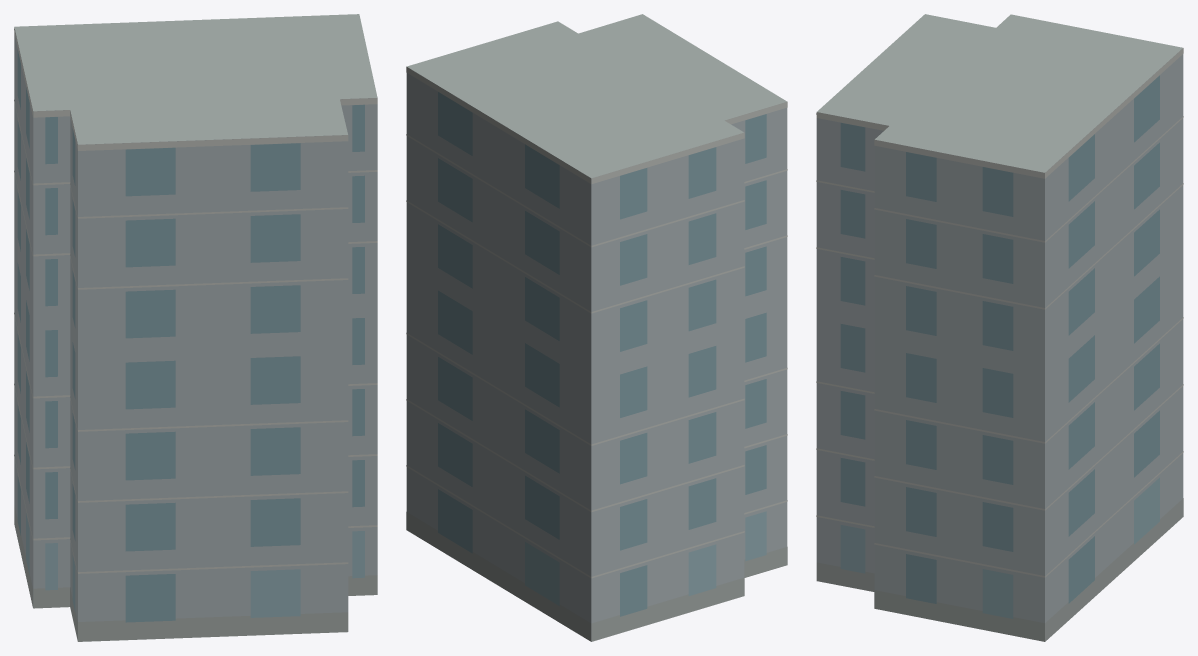
Rendered from survey-upis-33006070.glb.
3 views of the same model, side by side, from view 1: azimuth 30°, elevation 25°; view 2: azimuth 150°, elevation 25°; view 3: azimuth 270°, elevation 25° (orthographic). The views are drawn at different scales.
Parts seen in each view (by area): view 1: survey-upis-33006070.tmp; view 2: survey-upis-33006070.tmp; view 3: survey-upis-33006070.tmp.
Part boxes in pixels (box(x1,y1,x2,y2)): survey-upis-33006070.tmp: box(14, 14, 377, 641); survey-upis-33006070.tmp: box(406, 14, 787, 641); survey-upis-33006070.tmp: box(816, 14, 1183, 641).
Bounding box in the file's own units: 13.86 × 19.05 × 13.52.
